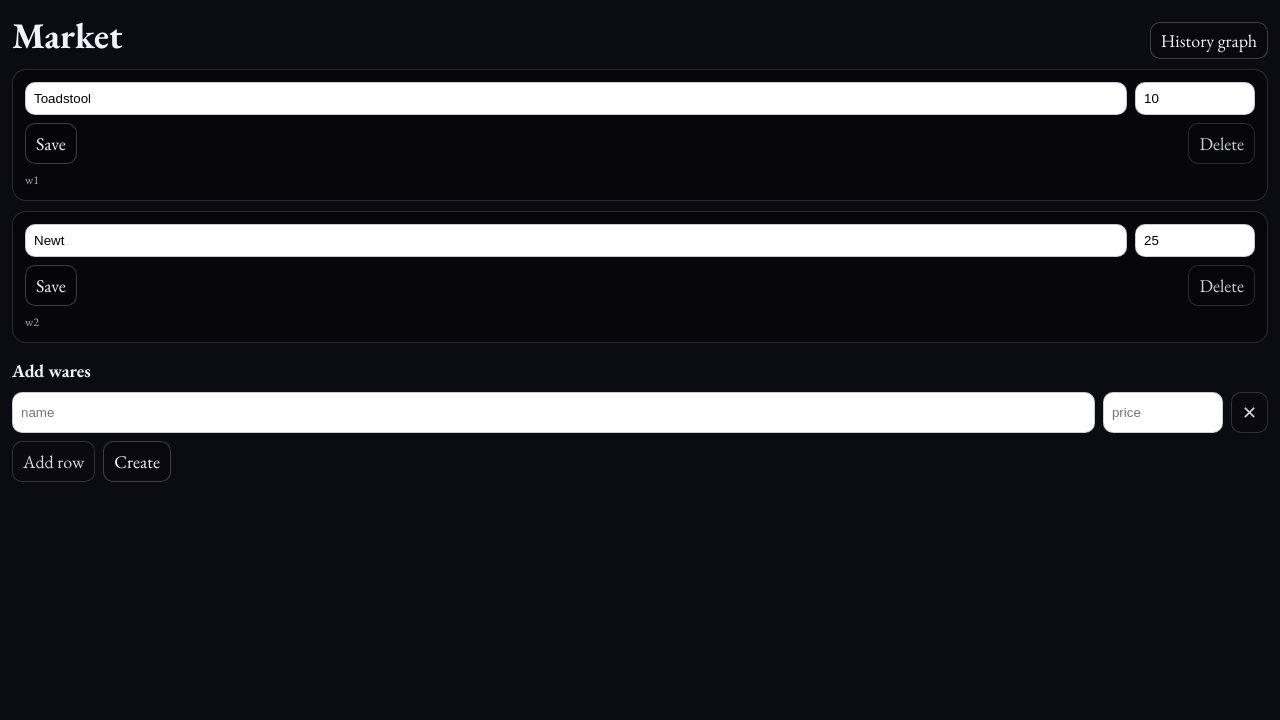
it: OfficeMarket › a failed save shows an error and re-enables the buttons
The image size is (1280, 720).
Expected: the 1st field showing "Toadstool" is shown, [25,82,1127,115]
Click the 1st button "Save". click: (51, 144)
box: [25,123,77,164]
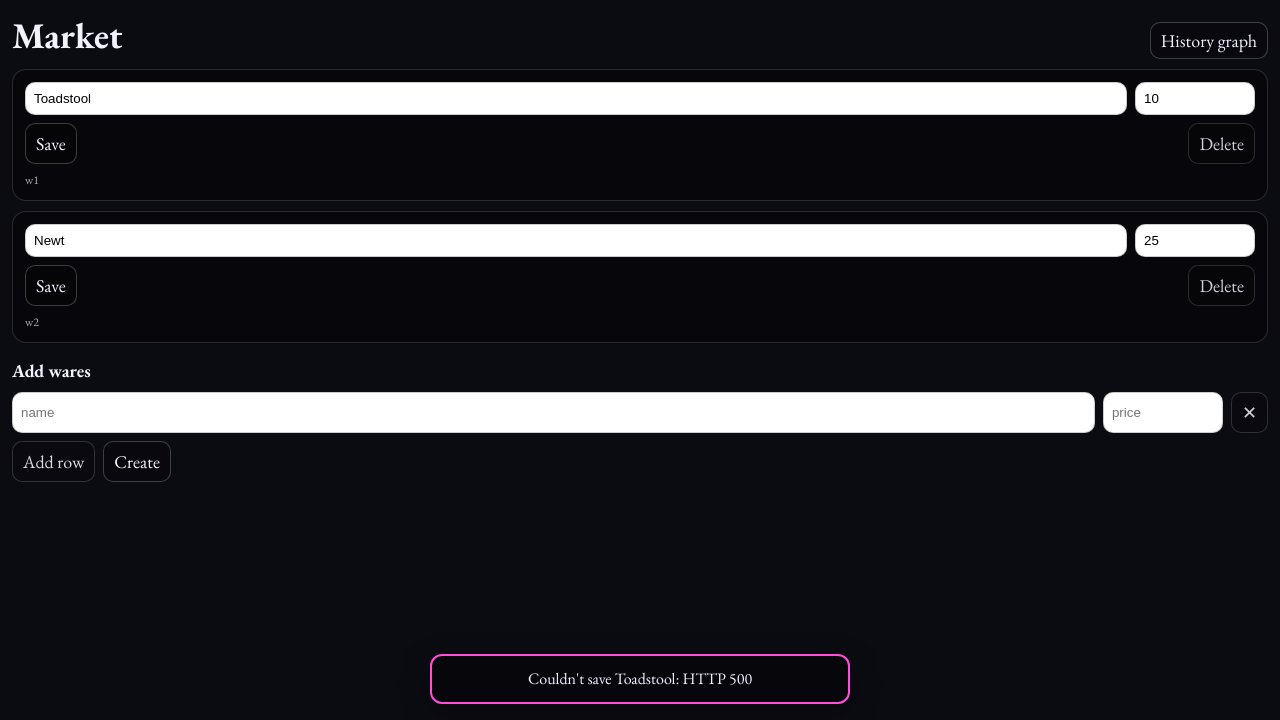
Expected: the text "Couldn't save Toadstool: HTTP 500" is shown, [430,654,850,704]
